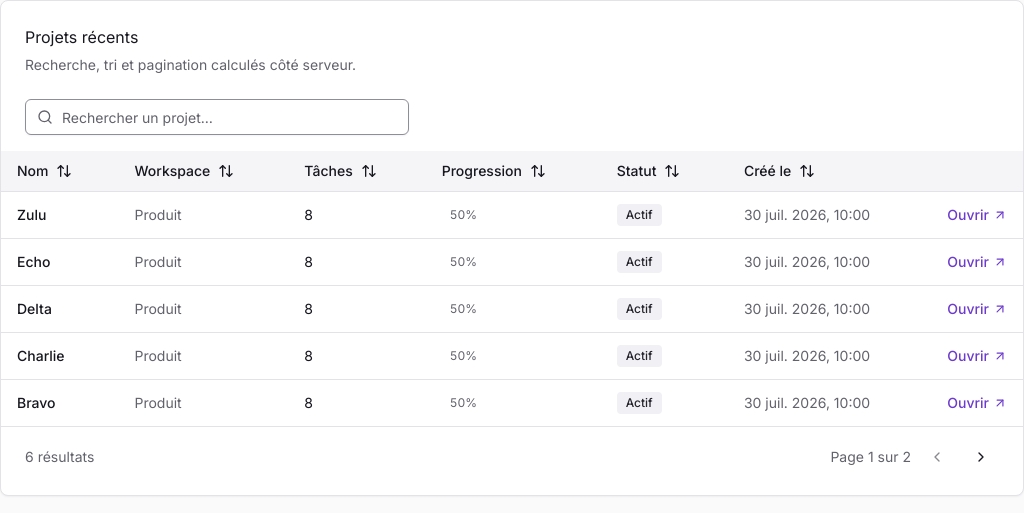
Test: dashboard components › searches, sorts and paginates recent projects
Expected: the text "Zulu" is shown, [17, 206, 46, 222]
Expected: the text "Alpha" is not shown
Click the button named "Page suivante" at (981, 456), box [963, 438, 999, 474]
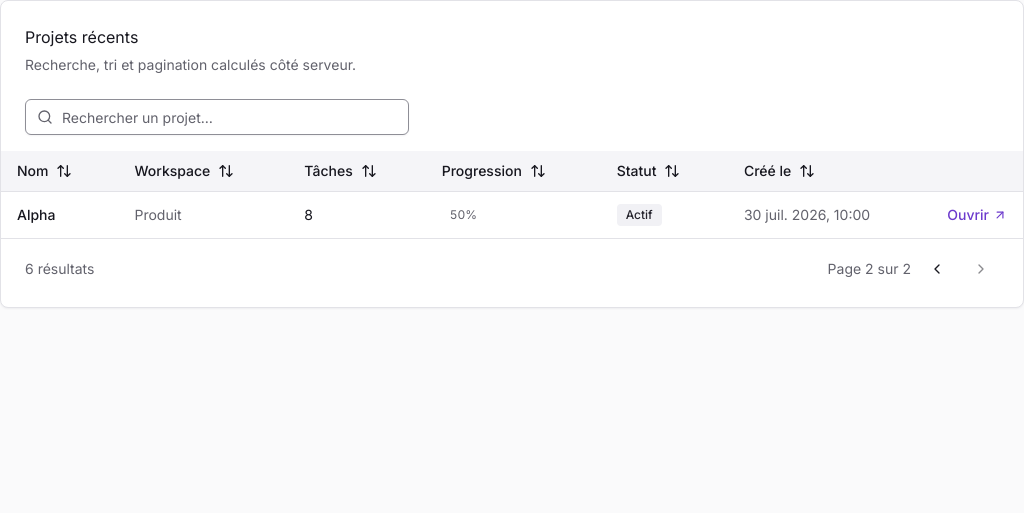
Expected: the text "Alpha" is shown, [17, 206, 56, 222]
Click the button named "Page précédente" at (937, 268), box [919, 250, 955, 286]
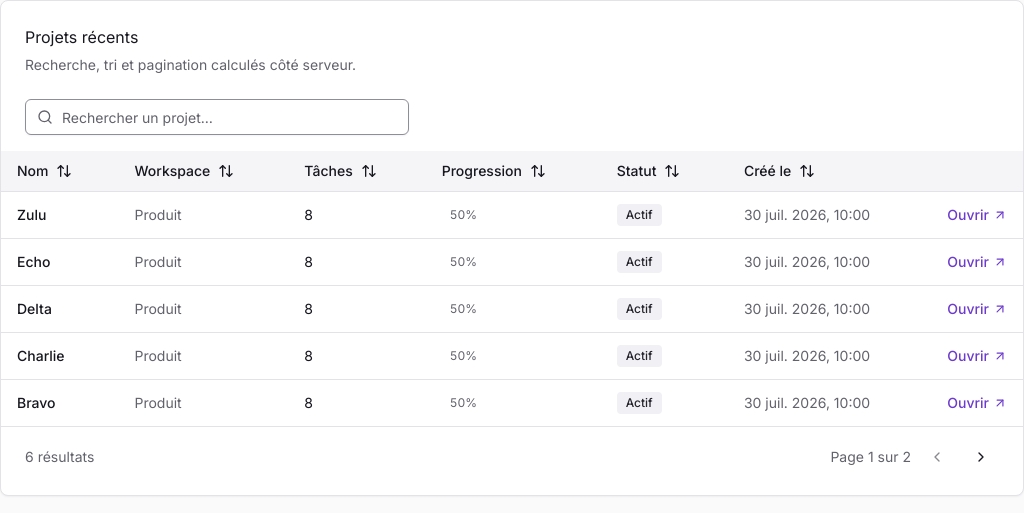
Click the button "Nom" at (45, 171), box [5, 155, 84, 187]
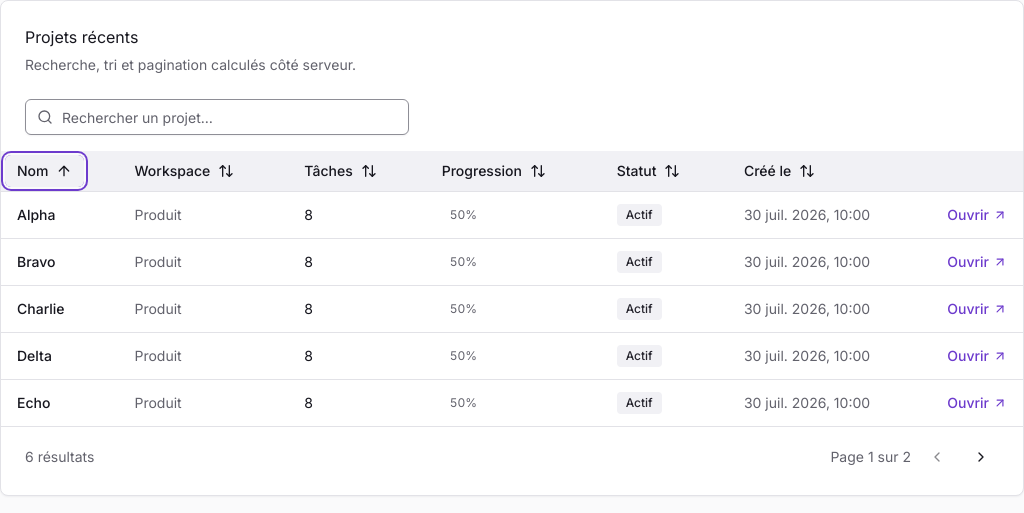
Expected: the text "Alpha" is shown, [17, 206, 56, 222]
Expected: the text "Zulu" is gone
Type "introuvable" into the field named "Rechercher un projet récent" at (217, 117), box [25, 99, 409, 135]
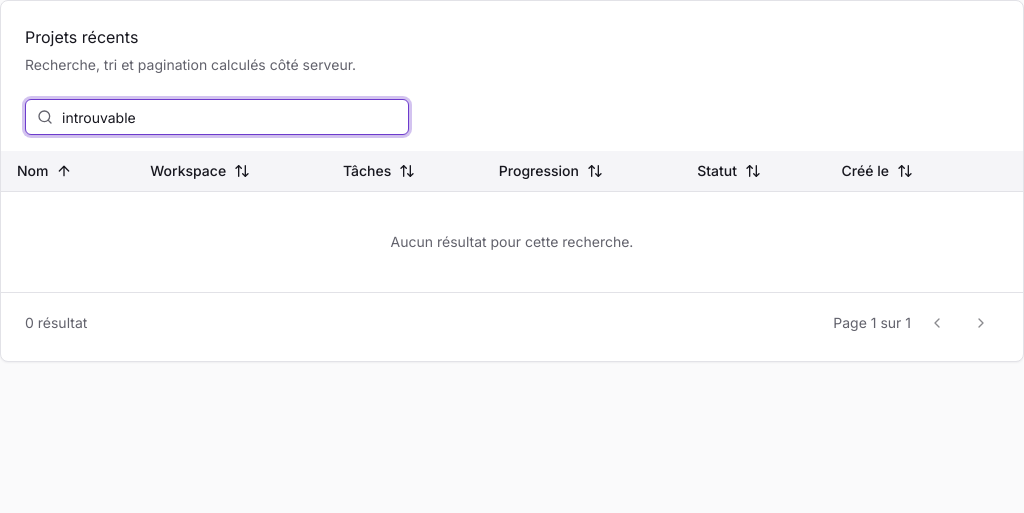
Expected: the text "Aucun résultat pour cette recherche." is shown, [391, 232, 633, 250]
Expected: the text "0 résultat" is shown, [25, 312, 87, 332]
